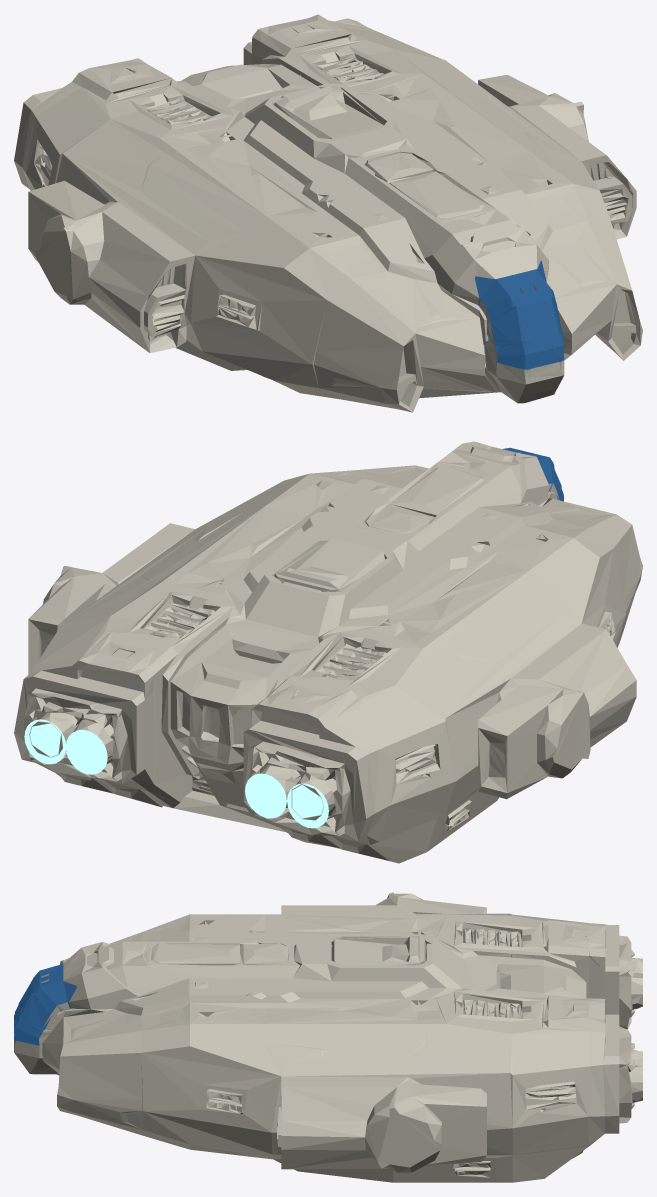
File: keelback.glb
The picture shows the model from 3 angles, top to bottom: view 1: azimuth 30°, elevation 25°; view 2: azimuth 150°, elevation 25°; view 3: azimuth 270°, elevation 25°; orthographic projection. The views are drawn at different scales.
Visible parts, largest first — view 1: keelback; view 2: keelback; view 3: keelback.
Boxes of the visible parts, x1,y1,x2,y2 form: keelback: (14, 14, 642, 412); keelback: (14, 441, 642, 863); keelback: (14, 892, 642, 1182).
Size of the model in its own units: 40.31 by 14.95 by 49.72.
